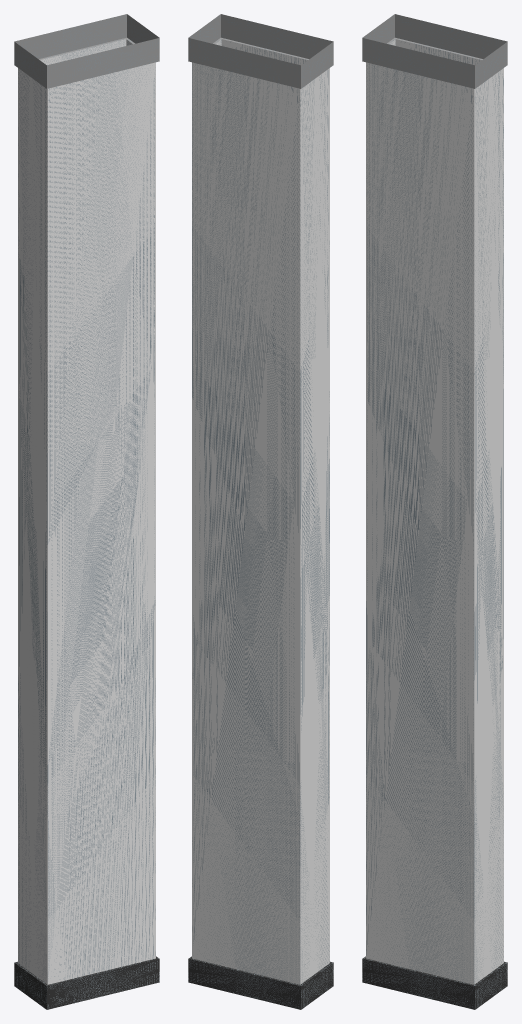
File: Column_ds_plinth_050x025x4.dae
3 renders of one model, left to right at view 1: azimuth 30°, elevation 25°; view 2: azimuth 150°, elevation 25°; view 3: azimuth 330°, elevation 25°, orthographic.
Visible parts, largest first — view 1: group_0 (×3); view 2: group_0 (×3); view 3: group_0 (×3).
Boxes of the visible parts, x1,y1,x2,y2 form: group_0 (×3): (14,14,159,1009); group_0 (×3): (188,14,333,1009); group_0 (×3): (362,14,507,1009).
Size of the model in its own units: 19.69 by 9.84 by 157.
